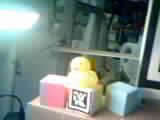duck: (66, 45, 100, 86)
